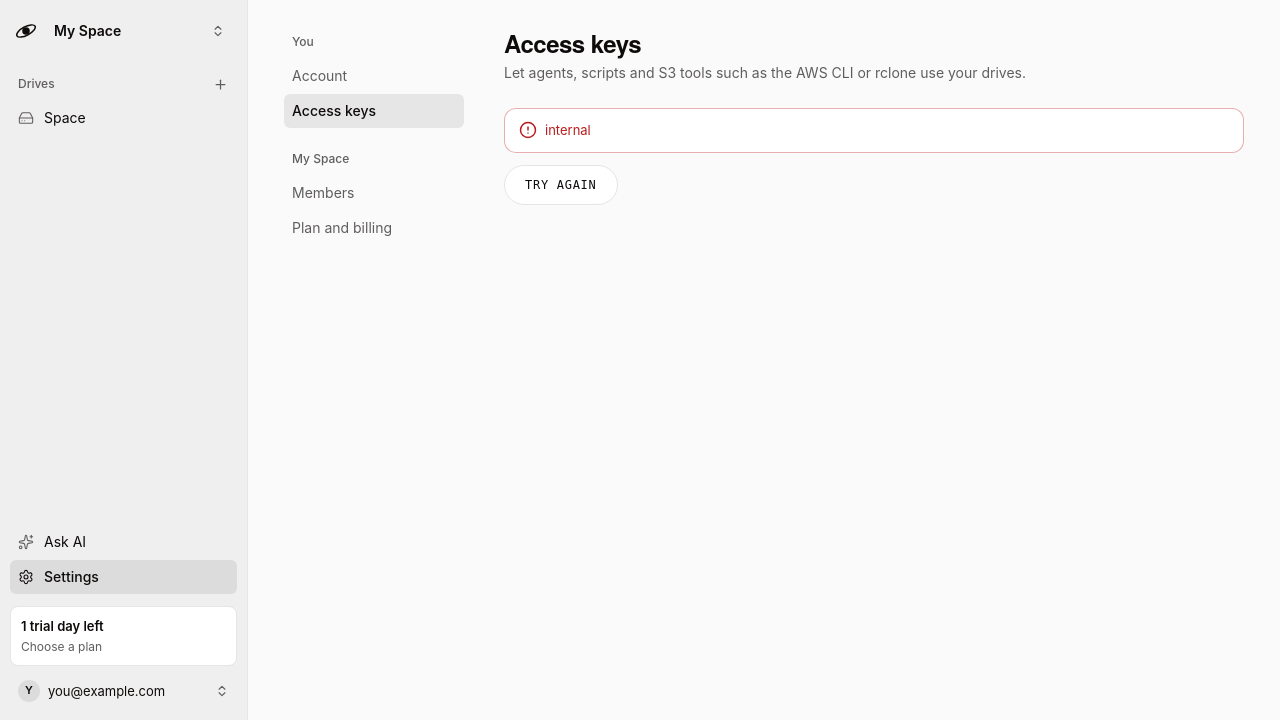
Test case: explains a failed list, retries it, and keeps the confirmation open when revoking fails
Expected: the message "internal" is shown, [504, 108, 1244, 153]
Click the button "Try again" at (561, 185), box [504, 165, 618, 205]
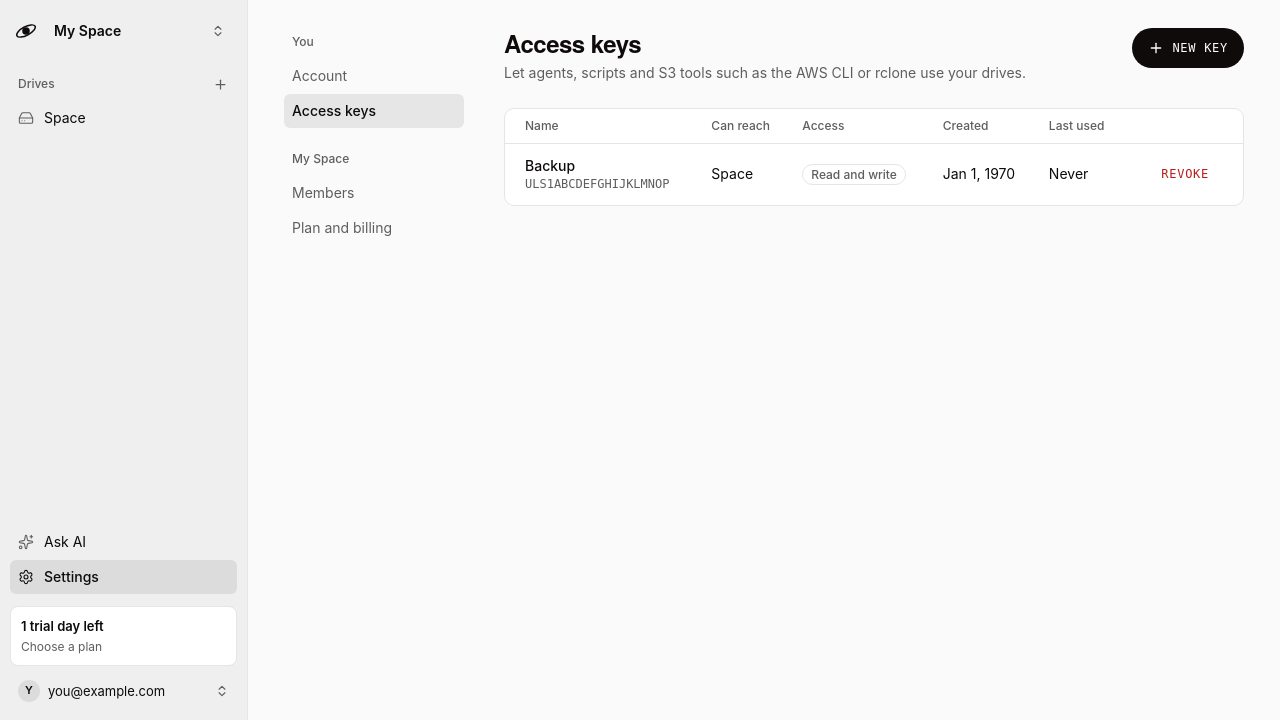
Click the button with aria-label "Revoke Backup" at (1185, 174), box [1147, 158, 1223, 190]
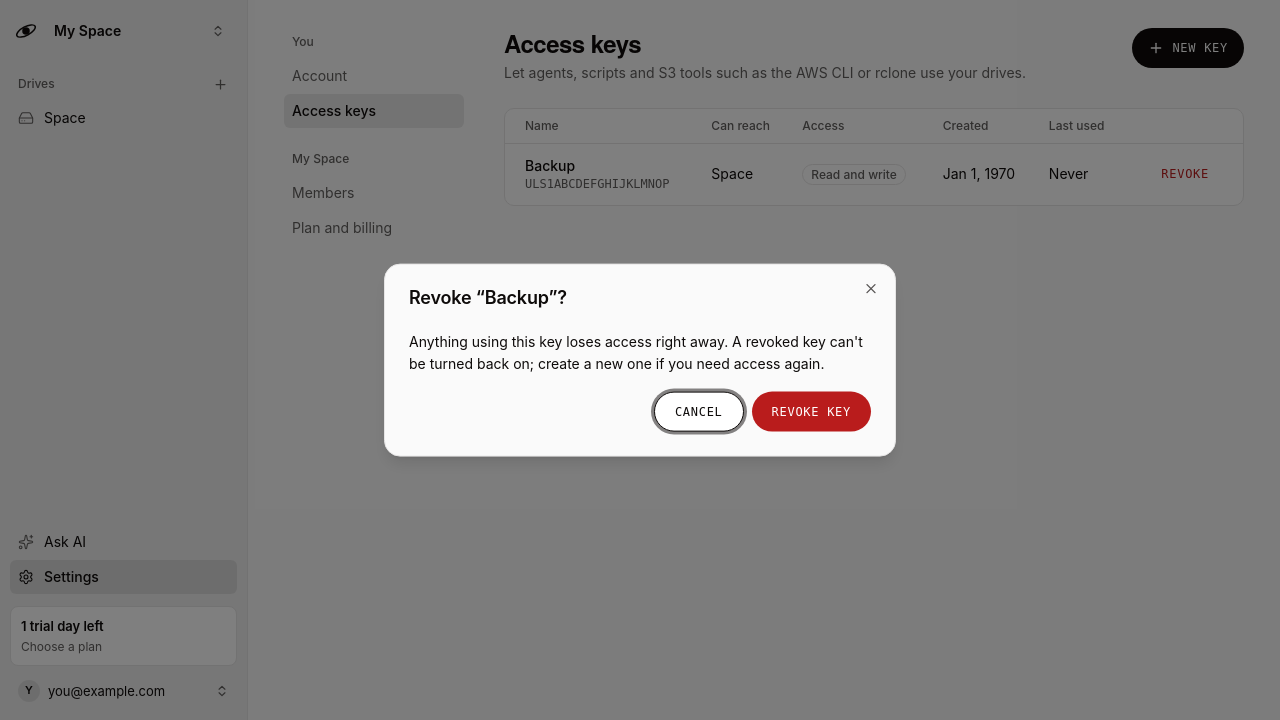
Click the button "Revoke key" at (811, 411), box [752, 391, 871, 431]
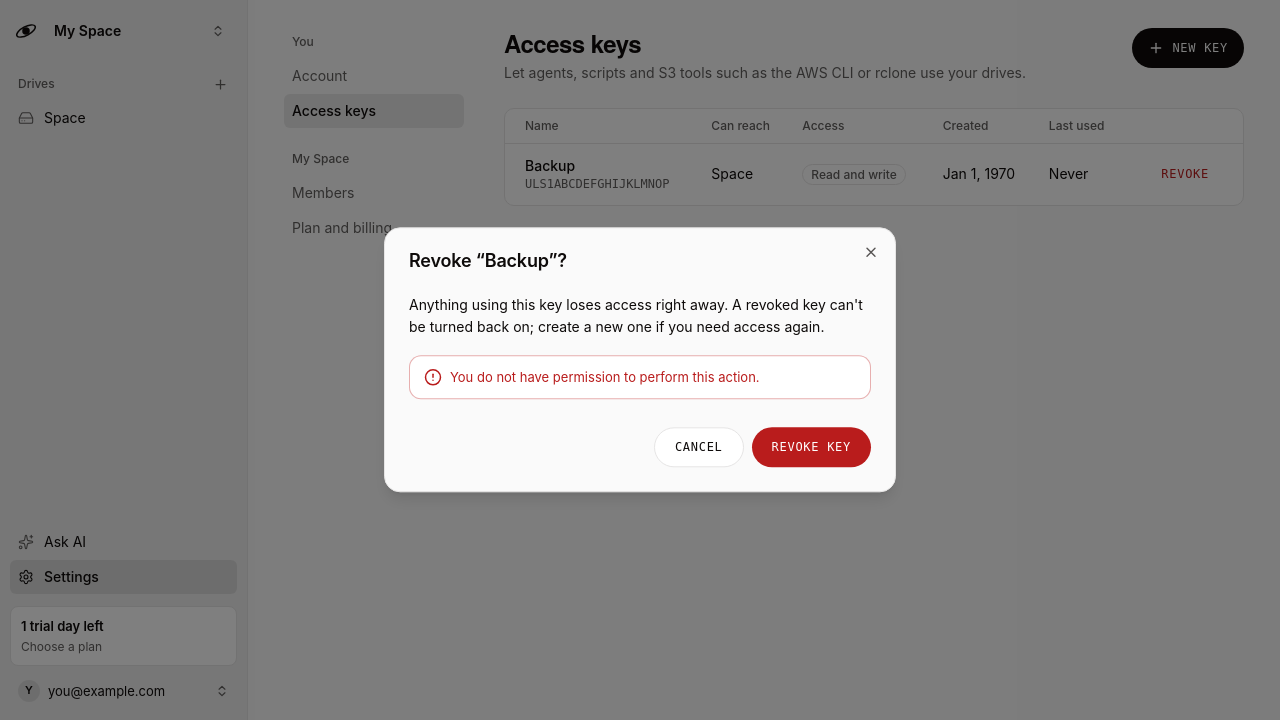
Now the button "Revoke key" is enabled, box [752, 428, 871, 468]
Now the message shows "You do not have permission", box [450, 369, 760, 385]
